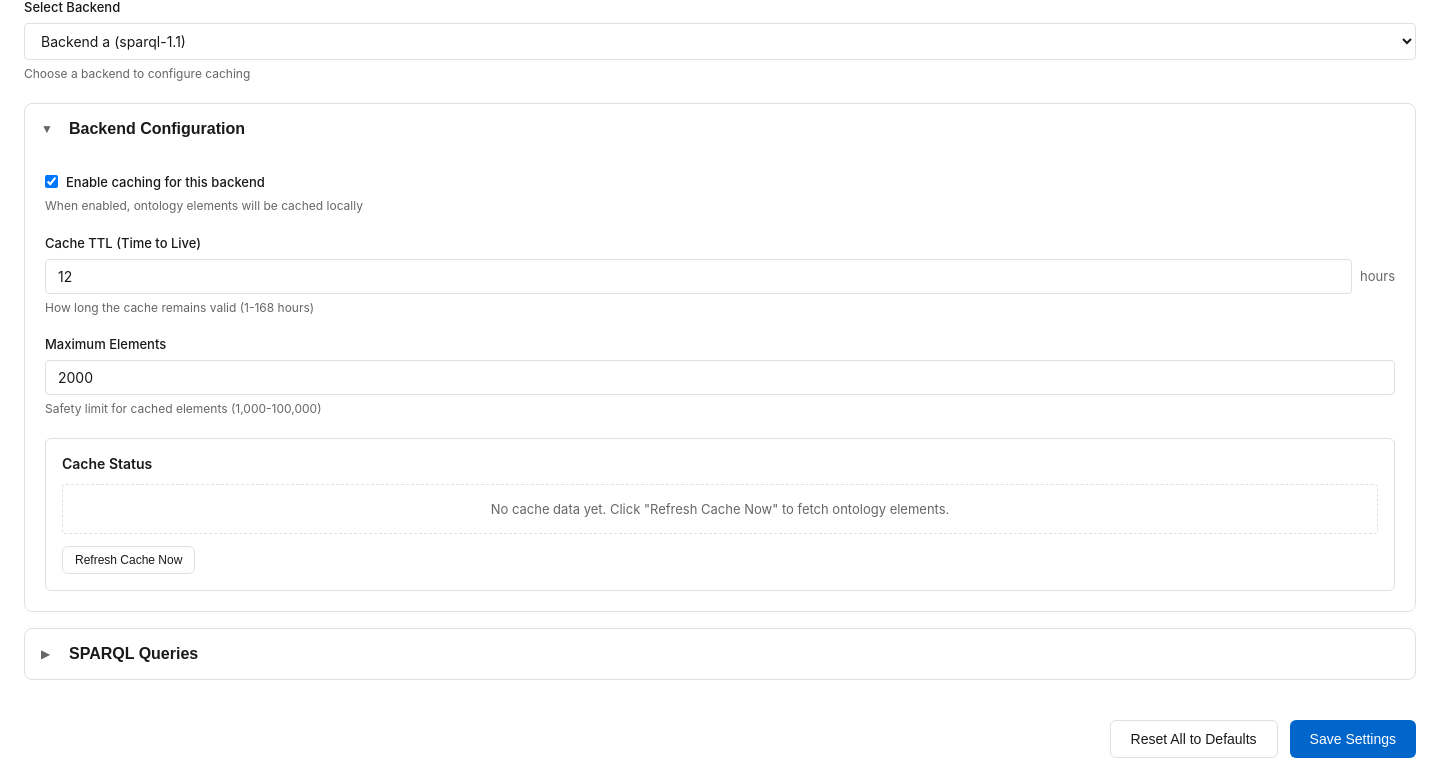
Test: CacheSettingsView - backend configuration › shows an error when the backend cache config update fails
The image size is (1440, 782).
(page scrolled)
Click the button "Save Settings". click: {"x": 1353, "y": 739}
box: [1290,720,1416,758]
(page scrolled)
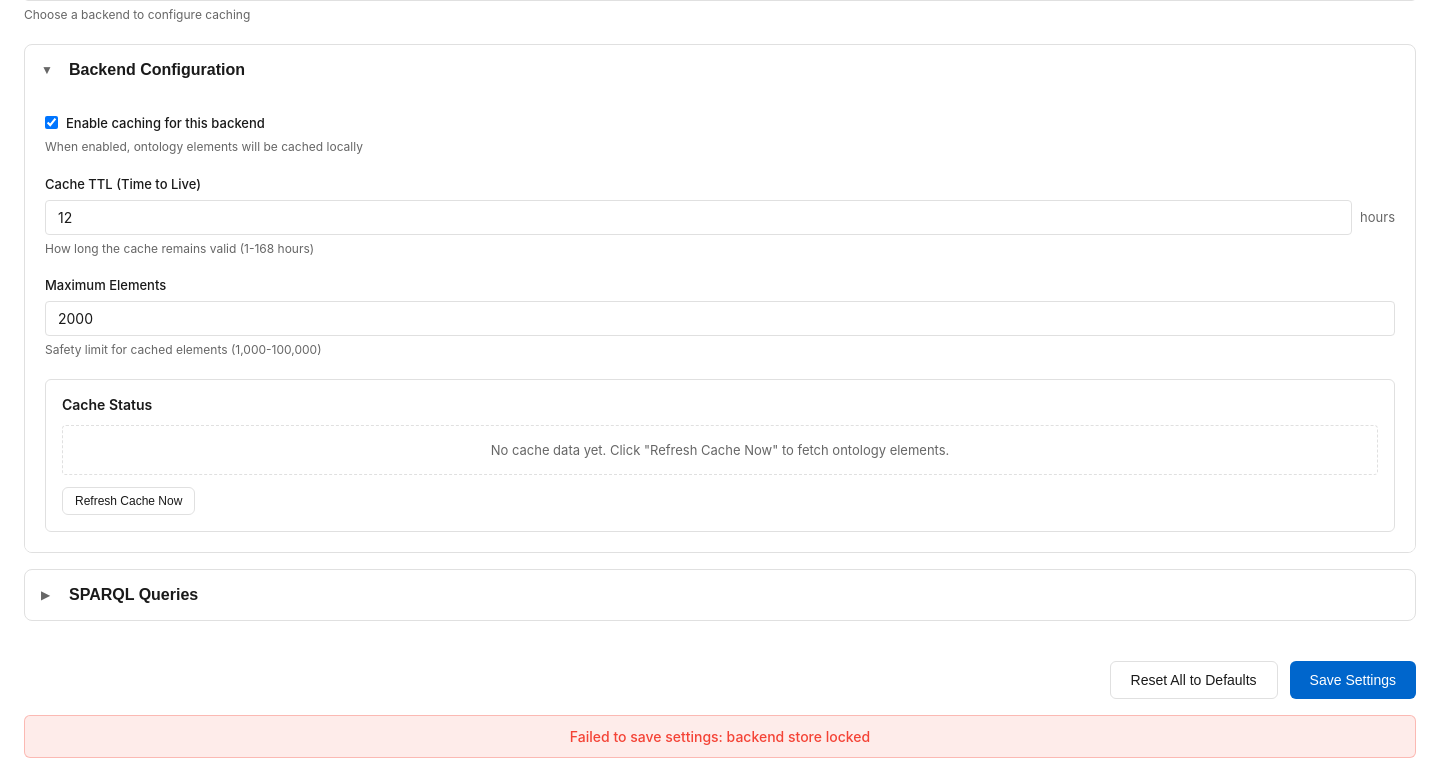
Expected: the text with class "save-message" reads "Failed to save settings: backend store locked", [570,728,870,745]
